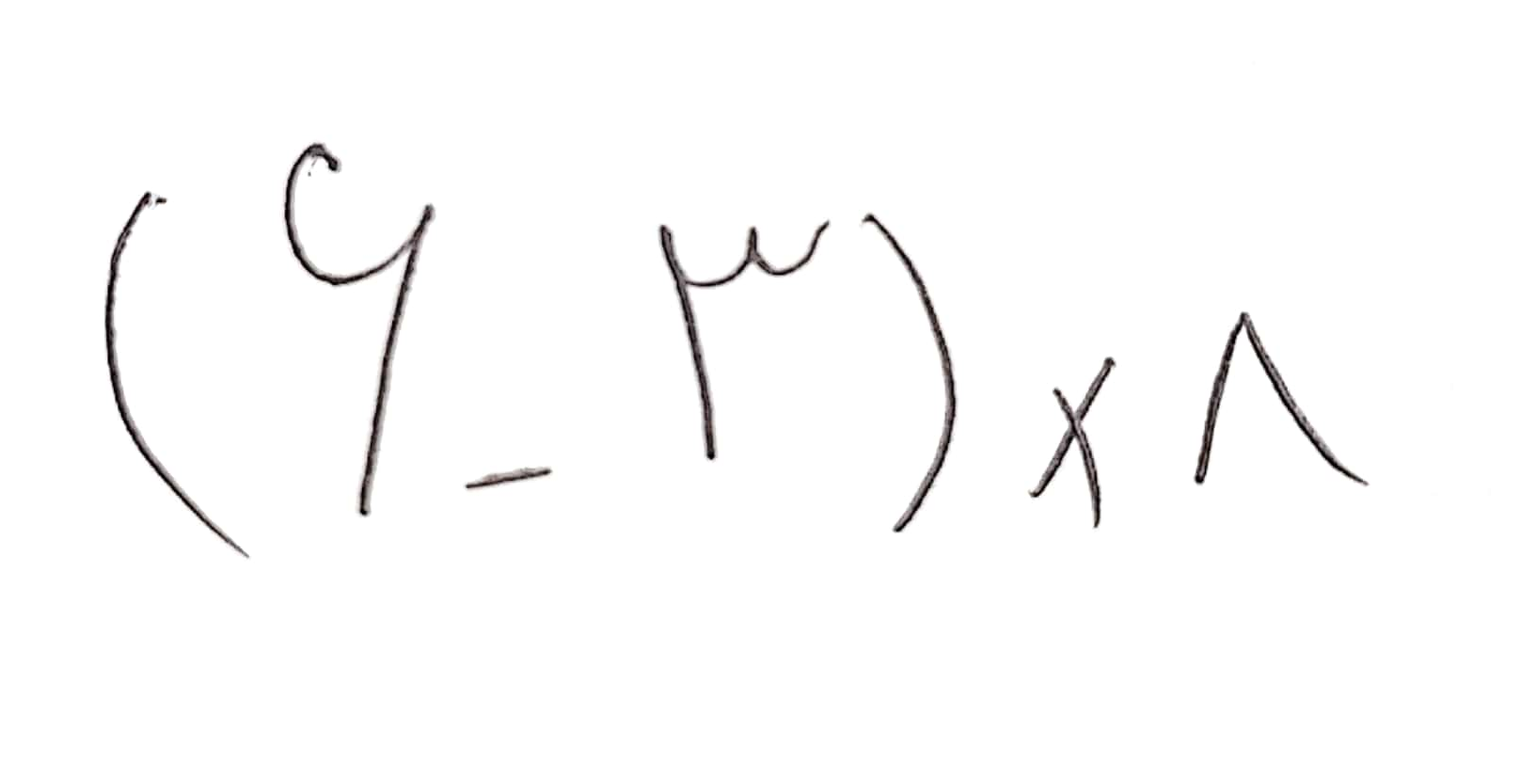character: (107, 190, 251, 559), (285, 144, 427, 517), (661, 221, 829, 459), (862, 213, 957, 534), (1195, 312, 1370, 485), (1029, 357, 1115, 529), (465, 468, 552, 489)
